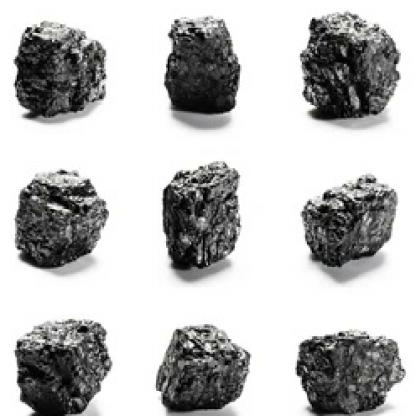Sedimentary_coal: (287, 296, 414, 414), (0, 3, 121, 125), (295, 7, 403, 121), (3, 154, 111, 265), (10, 309, 117, 414), (153, 304, 255, 414), (151, 152, 242, 275), (297, 160, 399, 265), (156, 12, 242, 120)
